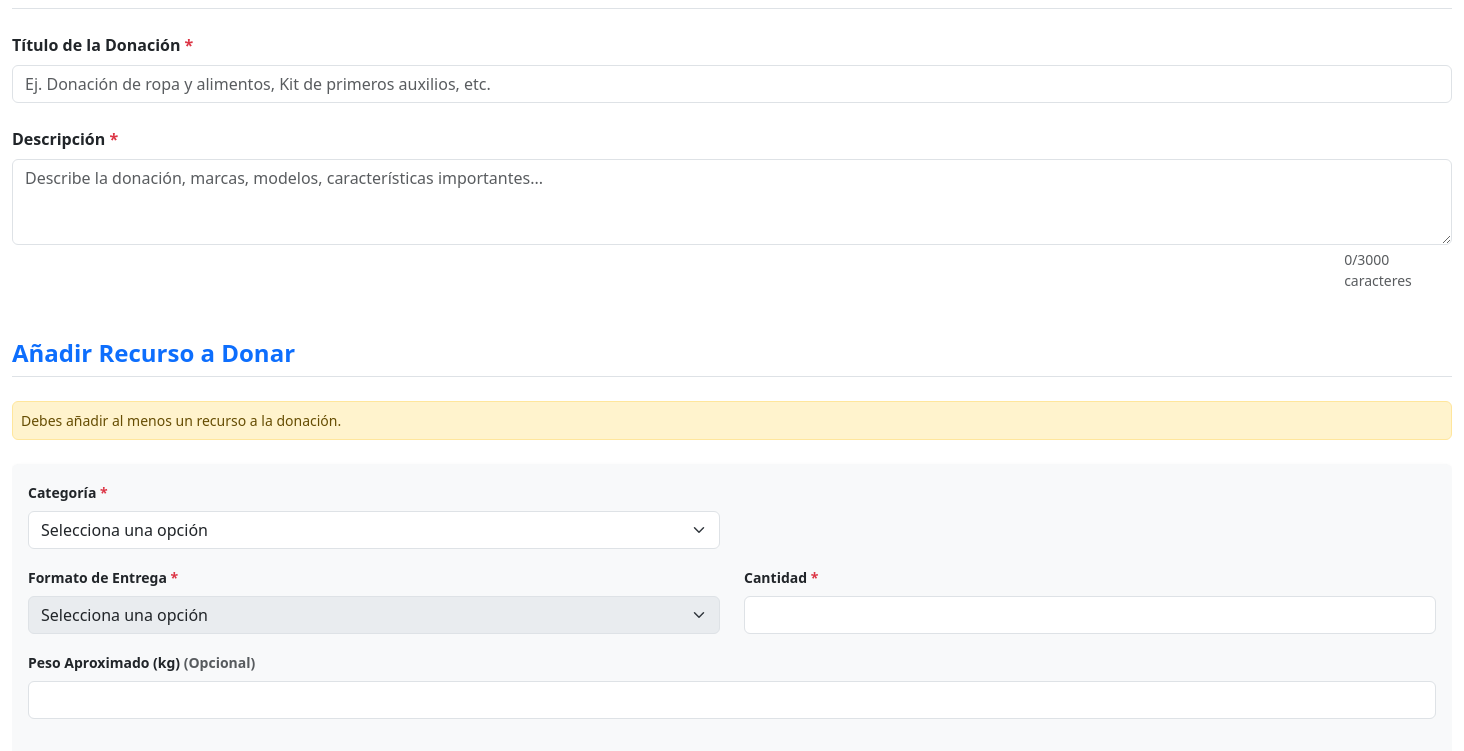
Test: Epic 2: Control y Validación de Donaciones › Debe renderizar los campos para Higiene
The width and height of the screenshot is (1464, 751).
Select "Artículos de Higiene Personal" in the dropdown below "Categoría": (374, 530) [28,511,720,549]
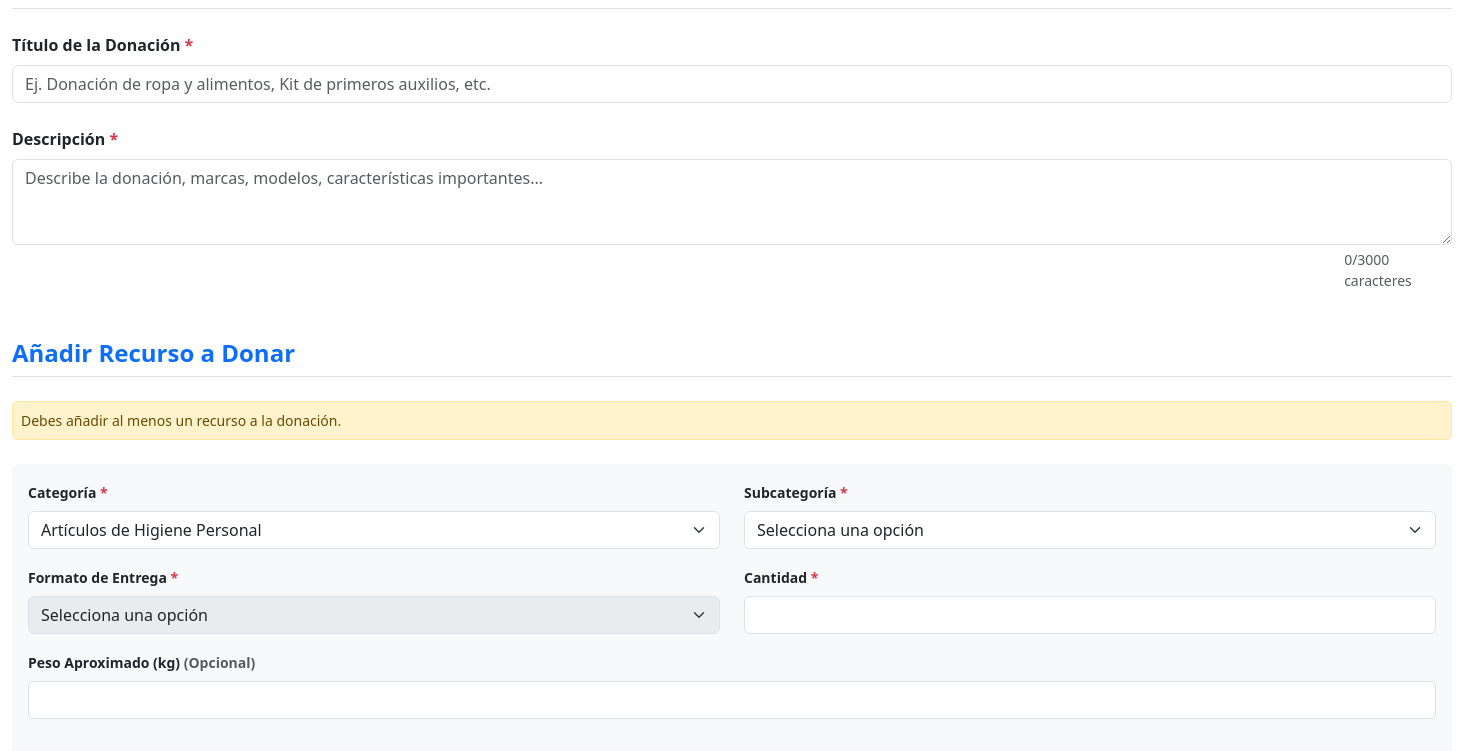
Check: the text "Subcategoría *" is shown, box [744,482,848,503]
Select "Papel Higiénico" in the dropdown below "Subcategoría": (1090, 530) [744,511,1436,549]
(page scrolled)
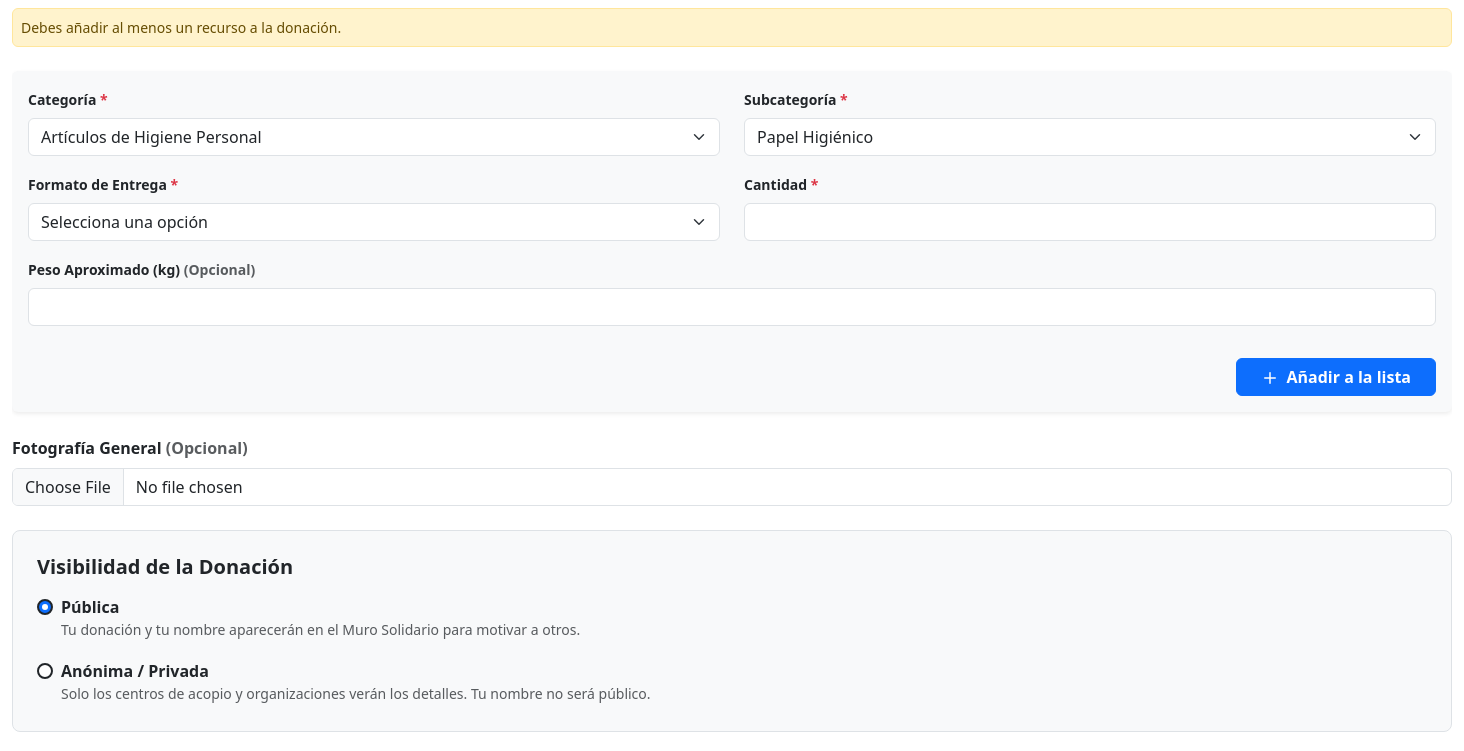
Click the button "Añadir a la lista": click(1336, 377) [1236,358,1436,396]
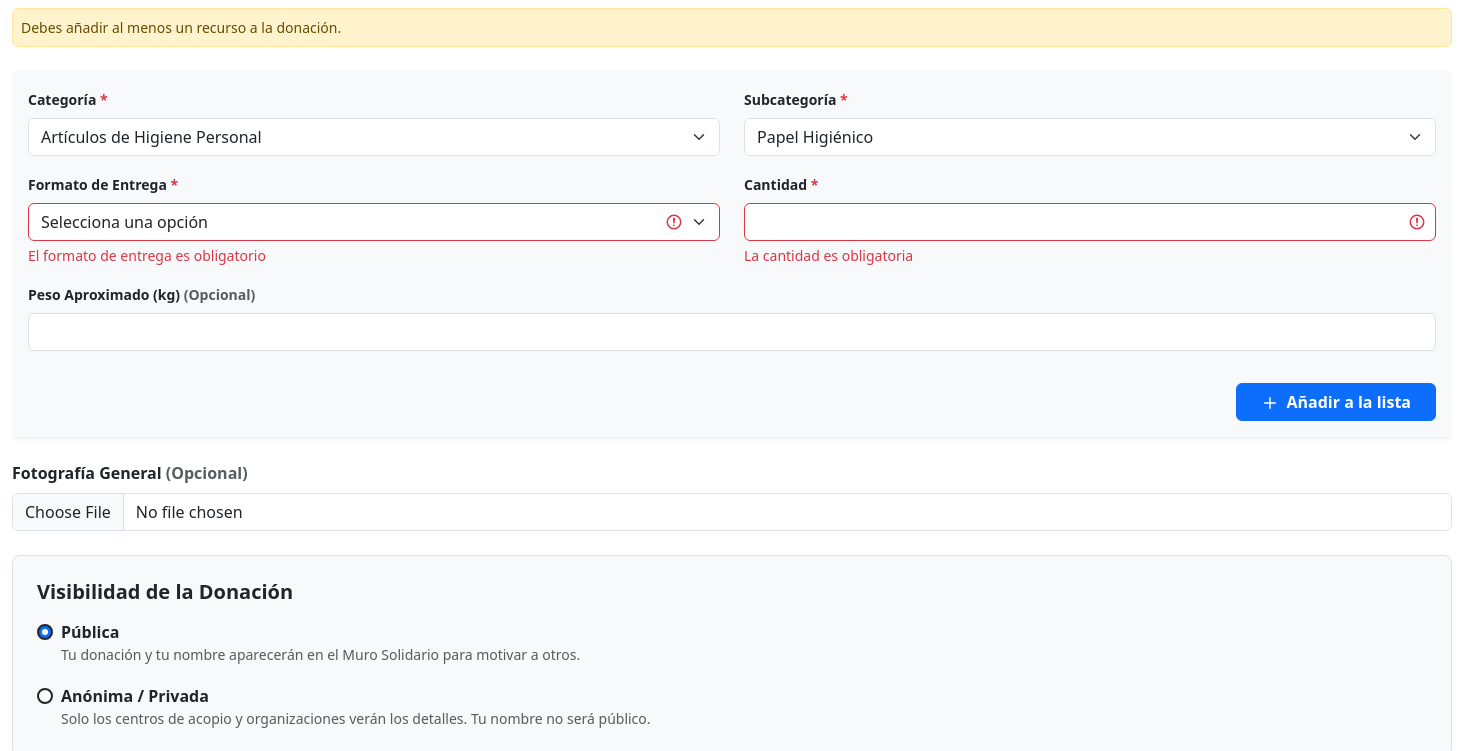
Check: the text "La cantidad es obligatoria" is shown, box [744,246,913,265]
